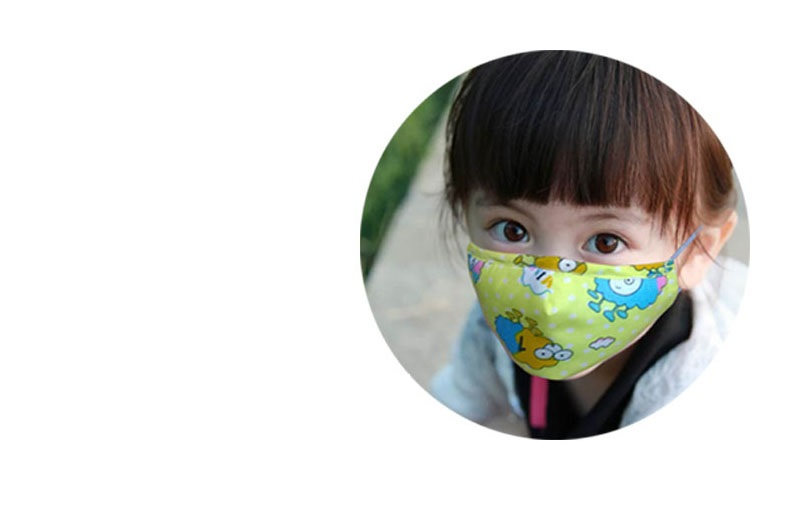face_mask: (466, 175, 675, 380)
